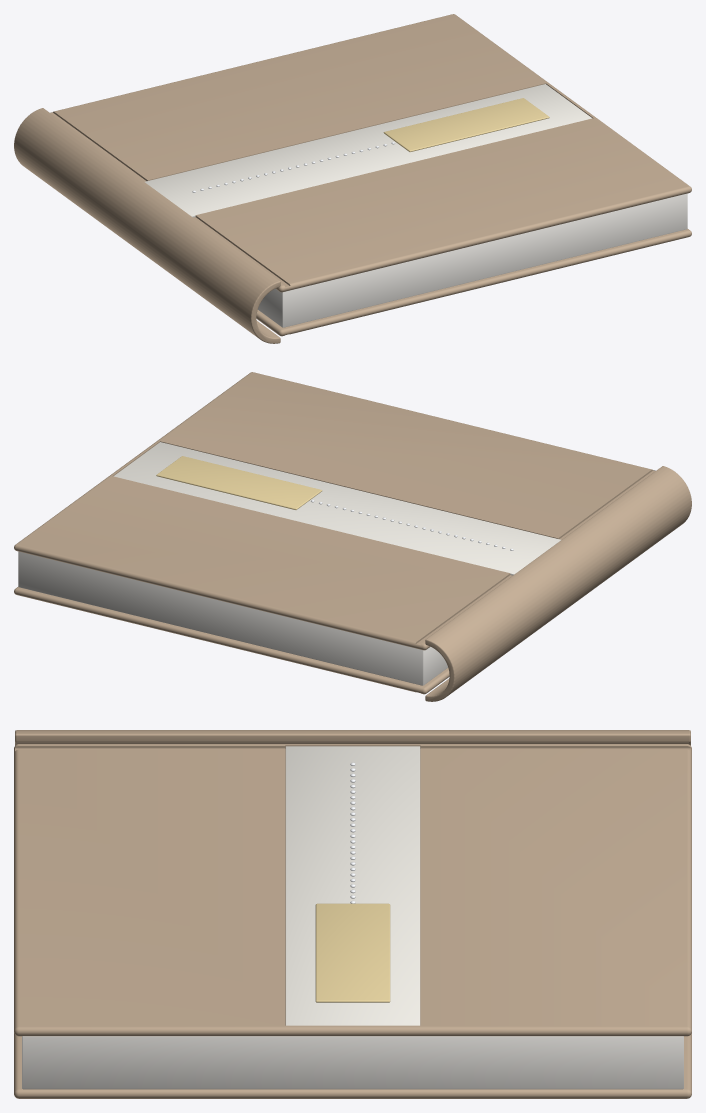
File: fascia--square.glb
3 renders of one model, top to bottom at view 1: azimuth 30°, elevation 25°; view 2: azimuth 150°, elevation 25°; view 3: azimuth 270°, elevation 25°, orthographic. The views are drawn at different scales.
Visible parts, largest first — view 1: CoverFront, Spine, Pages, Band, CoverBack, Plate; view 2: CoverFront, Spine, Pages, Band, CoverBack, Plate; view 3: CoverFront, Pages, Band, Spine, CoverBack, Plate.
Part boxes in pixels (box(x1,y1,x2,y2)): CoverFront: box(50, 14, 691, 292); Spine: box(14, 108, 280, 343); Pages: box(258, 193, 687, 327); Band: box(145, 84, 591, 217); CoverBack: box(256, 229, 691, 336); Plate: box(383, 98, 549, 151); CoverFront: box(14, 372, 655, 650); Spine: box(425, 466, 691, 701); Pages: box(18, 551, 447, 685); Band: box(113, 442, 560, 575); CoverBack: box(14, 587, 449, 694); Plate: box(156, 456, 322, 509); CoverFront: box(14, 744, 691, 1036); Pages: box(22, 1036, 683, 1089); Band: box(285, 746, 420, 1025); Spine: box(15, 730, 690, 745); CoverBack: box(14, 1033, 691, 1098); Plate: box(315, 903, 390, 1002).
Size of the model in its own units: 0.3208 by 0.043 by 0.3.
